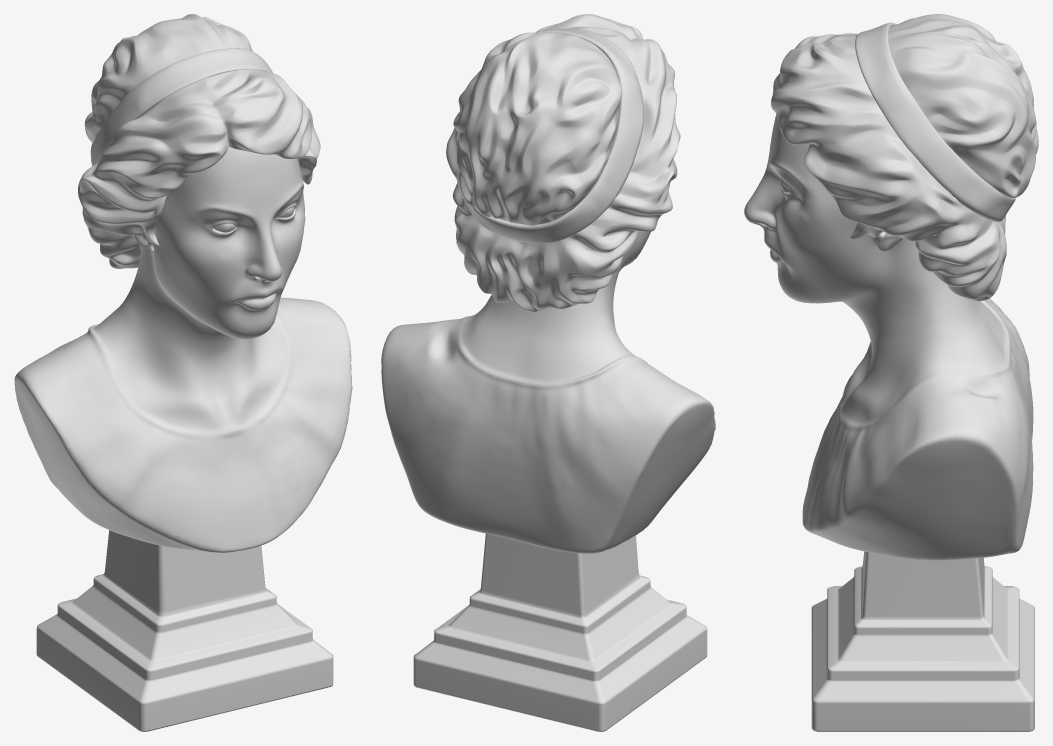
The model's file is female-head-2=3.glb.
3 renders of one model, left to right at view 1: azimuth 30°, elevation 25°; view 2: azimuth 150°, elevation 25°; view 3: azimuth 270°, elevation 25°, orthographic. The views are drawn at different scales.
Visible parts, largest first — view 1: node_id86; view 2: node_id86; view 3: node_id86.
Part boxes in pixels (bbox=[...]): node_id86: bbox=[14, 14, 352, 731]; node_id86: bbox=[381, 14, 715, 731]; node_id86: bbox=[744, 14, 1038, 731].
Size of the model in its own units: 0.2032 by 0.4012 by 0.1622.
Materials: 1 (1 with a texture image).
